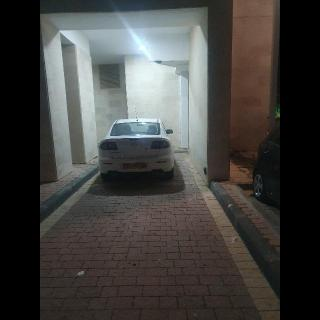LicensePlate: (124, 164, 148, 168)
